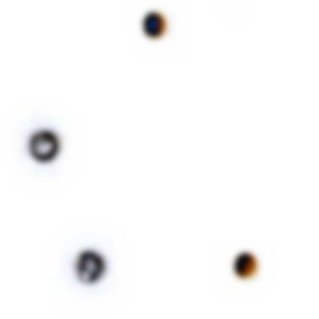cancer: (52, 234, 123, 296), (17, 117, 81, 170)
normal: (224, 237, 273, 287), (132, 7, 183, 49)
